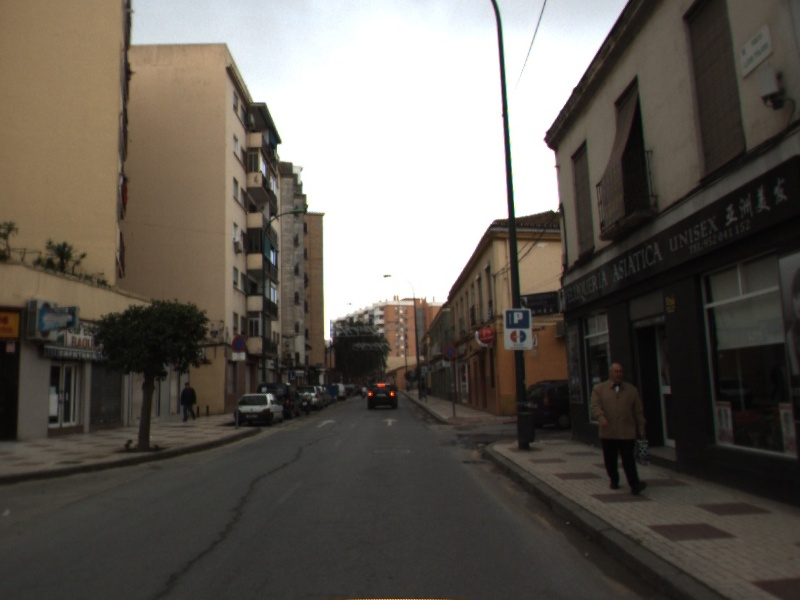STRAIGHT: (314, 417, 338, 429), (380, 416, 401, 428)
